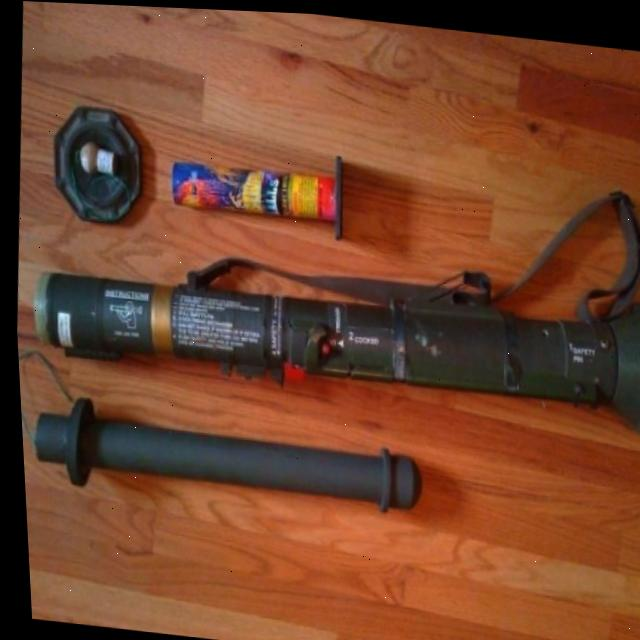rocket: (3, 72, 640, 457)
